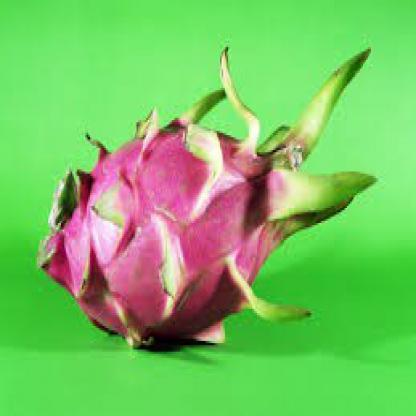dragon-fruit: (40, 126, 272, 341)
